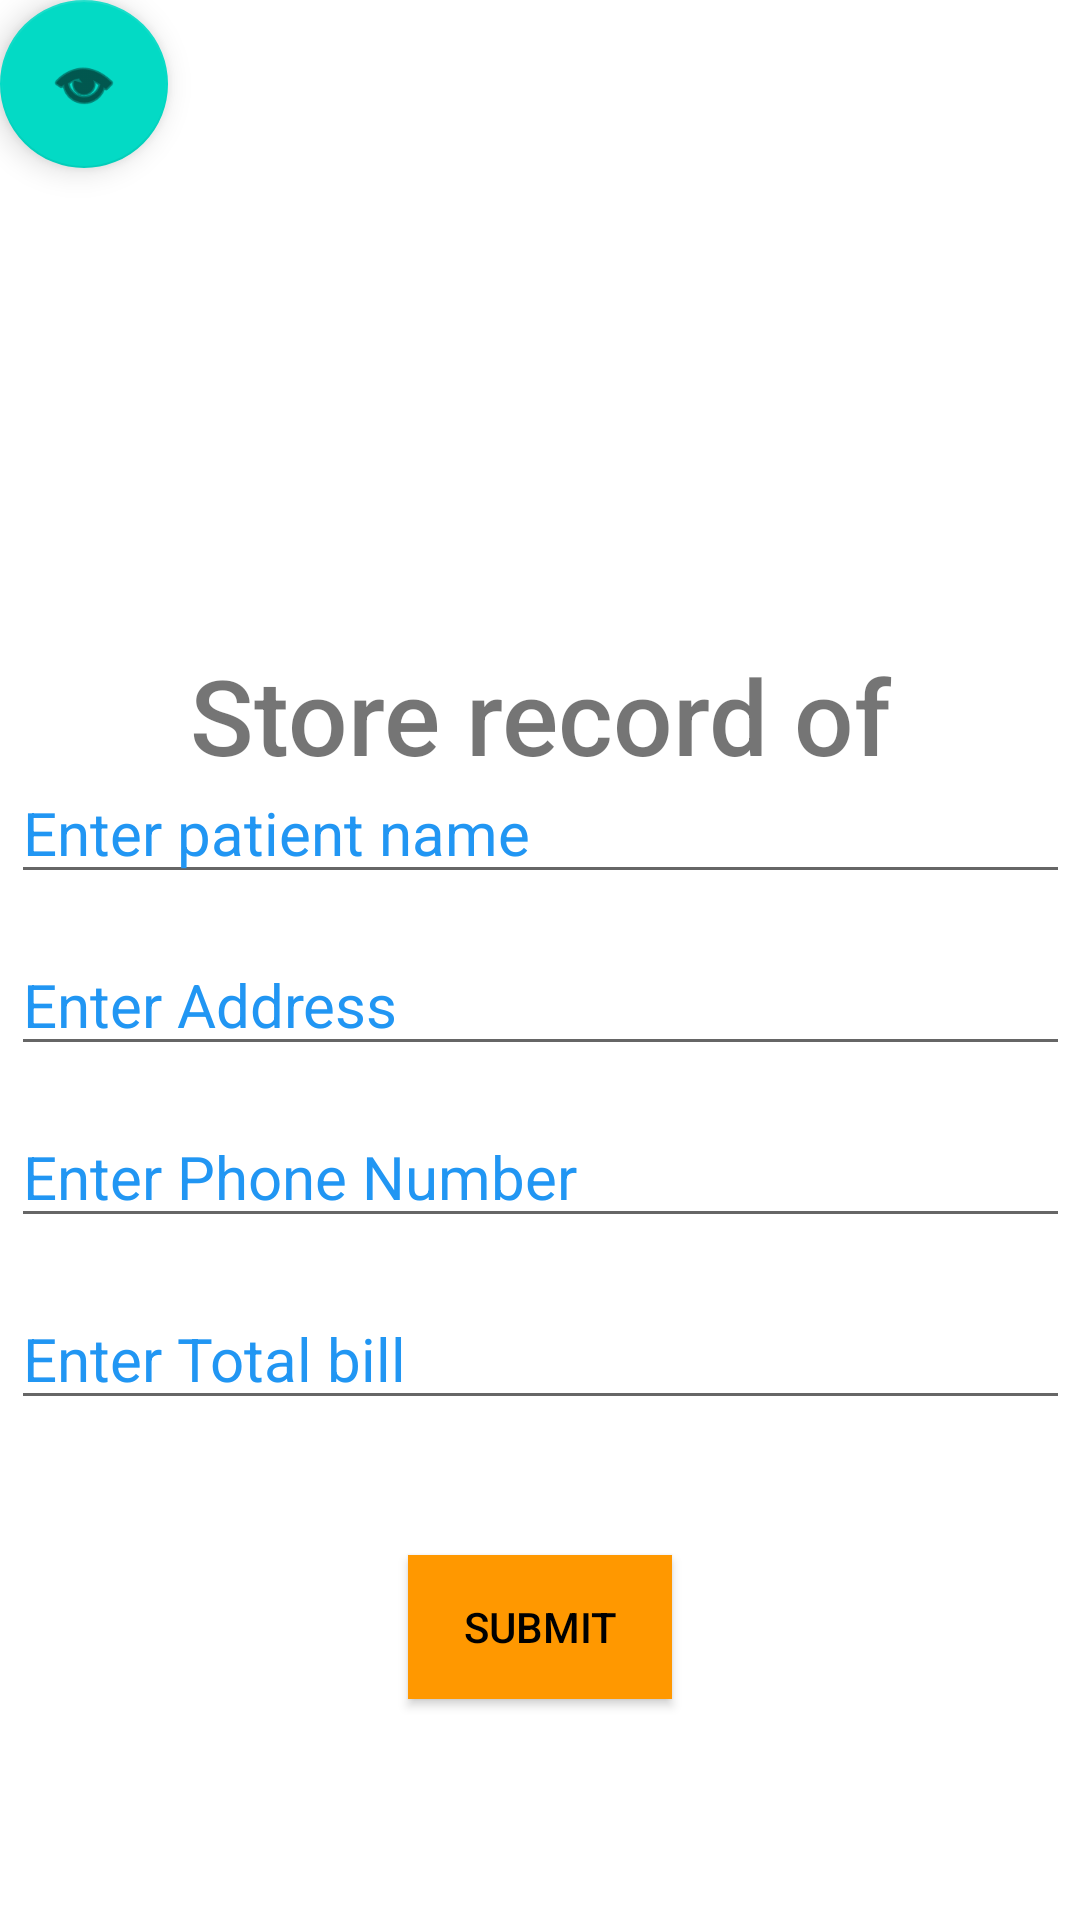

Icons on this 1080x1920 Android screen, each with the point to tap as (x=x, y=y):
view: (x=84, y=84)
